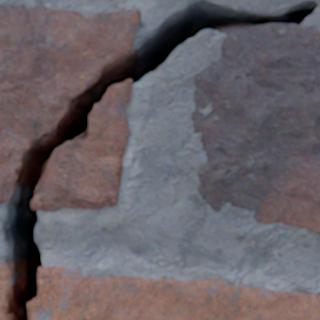brick: (190, 25, 319, 233)
broken_brick: (0, 5, 140, 203), (29, 266, 319, 319), (31, 81, 131, 211), (0, 263, 9, 319)
crack: (0, 0, 319, 319), (76, 13, 94, 24)
